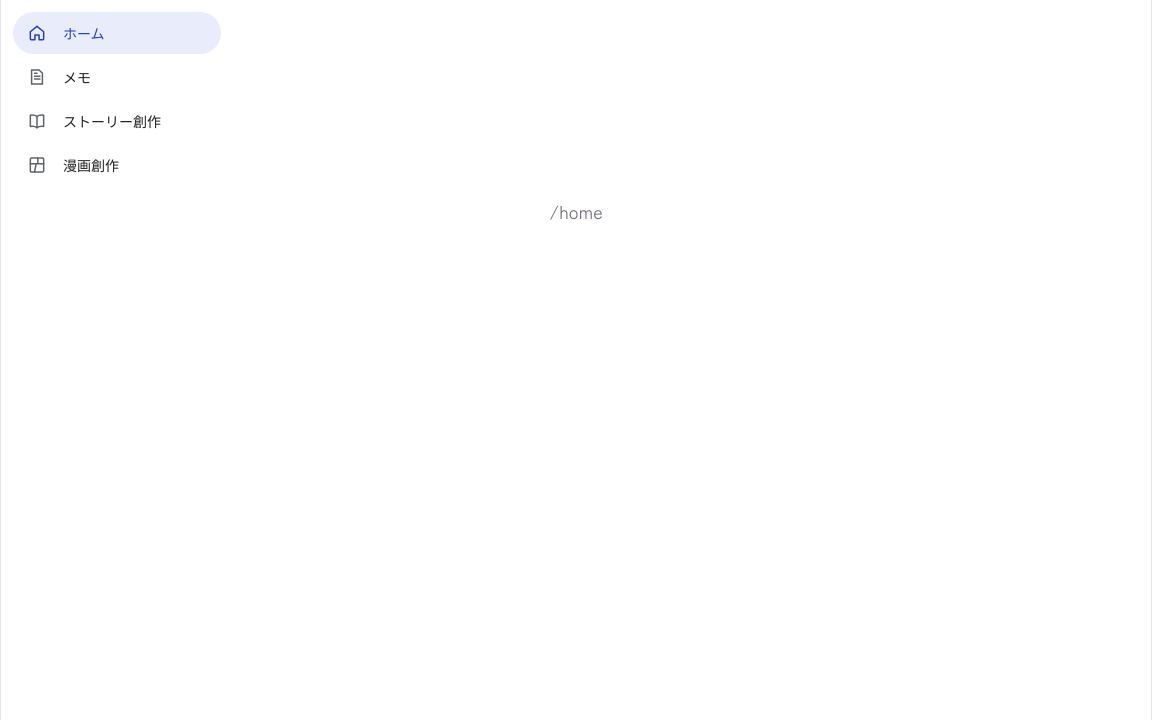
Test: LeftMenu › メニューを押すとその画面へ移動する
Click the button "ストーリー創作" at (117, 121), box [13,100,221,142]
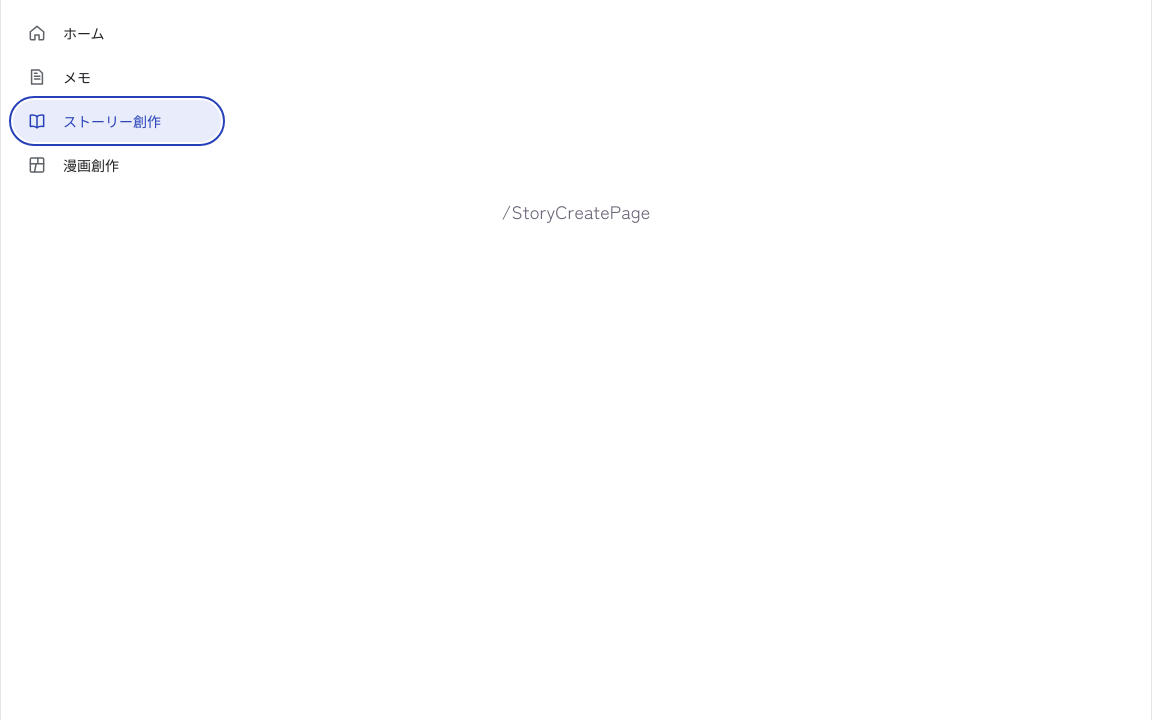
Expected: the text with test id "current-path" reads "/StoryCreatePage", [502,198,650,224]
